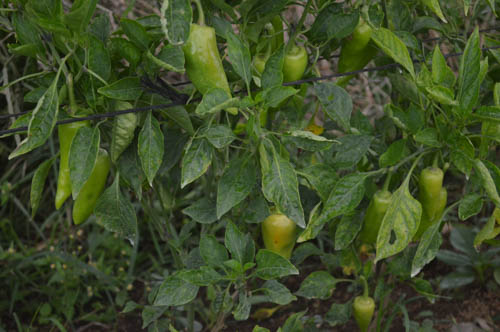ChiliPepper: (54, 118, 90, 208), (181, 25, 225, 98), (74, 152, 107, 222), (336, 24, 368, 77), (359, 195, 392, 245), (263, 213, 295, 256), (419, 165, 438, 213), (280, 51, 307, 78), (350, 300, 372, 325)
